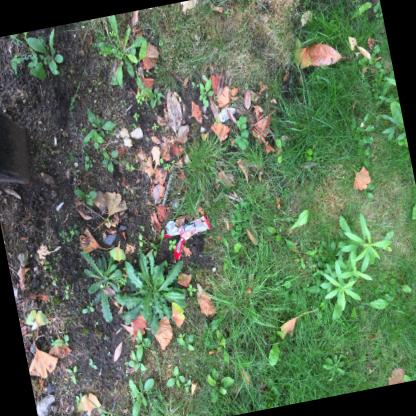Plastic: (163, 215, 210, 260), (161, 174, 171, 206)
